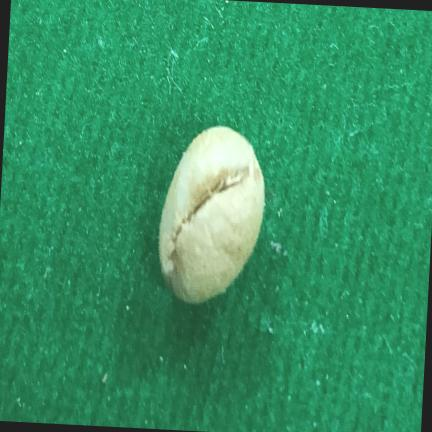good: (159, 126, 265, 303)
